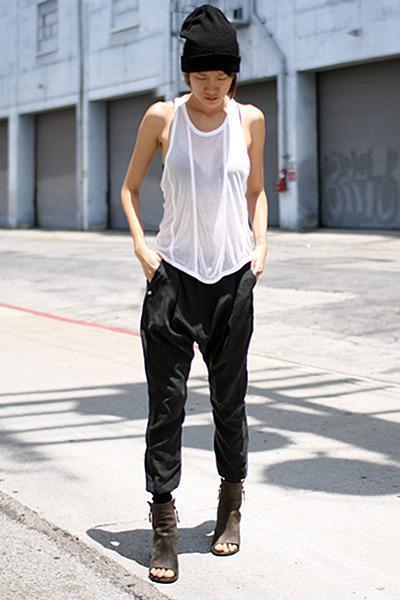hat: (178, 4, 249, 83)
pants: (140, 258, 261, 503)
shirt: (158, 93, 264, 283)
shoe: (139, 481, 244, 583)
